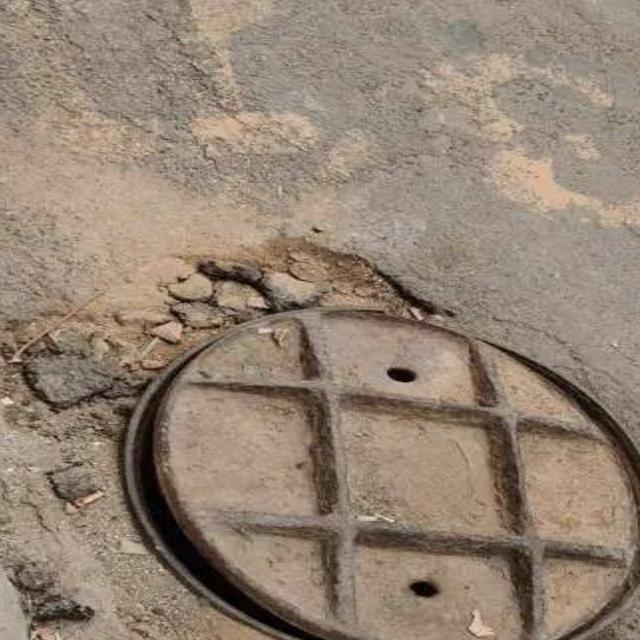circle: (0, 229, 640, 640)
